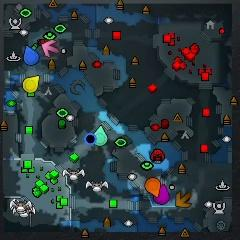p1: (23, 45, 39, 65)
p1Clone: (84, 133, 97, 145)
p2: (93, 125, 108, 147)
p3: (154, 184, 169, 205)
p4: (23, 75, 40, 93)
p5: (145, 178, 161, 197)
x1: (42, 40, 59, 57)
x5: (176, 191, 192, 208)
